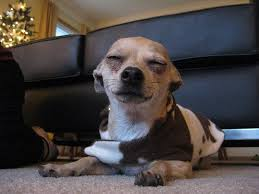chihuahua: (38, 37, 226, 184)
